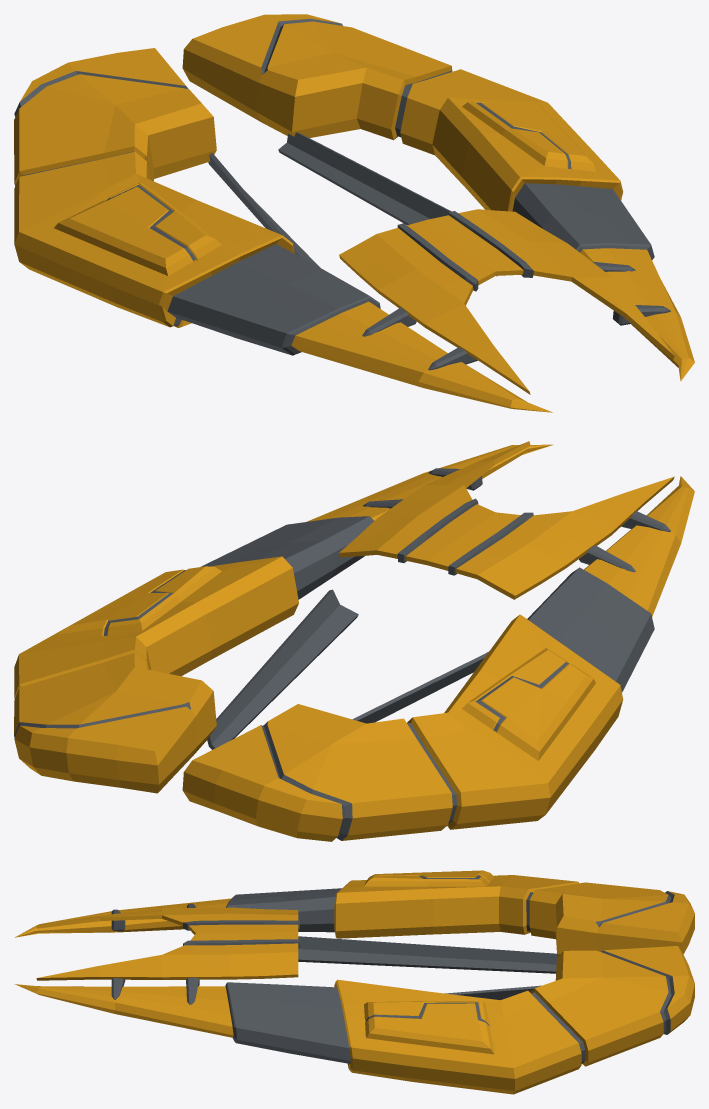
The model's file is Fighter_02_Outer_Frame_Yellow.fbx.
3 views of the same model, one above another, from view 1: azimuth 30°, elevation 25°; view 2: azimuth 150°, elevation 25°; view 3: azimuth 270°, elevation 25° (orthographic). The views are drawn at different scales.
Parts seen in each view (by area): view 1: Fighter_02_Outer_Frame_Yellow; view 2: Fighter_02_Outer_Frame_Yellow; view 3: Fighter_02_Outer_Frame_Yellow.
Part boxes in pixels (x1,y1,x2,y2): Fighter_02_Outer_Frame_Yellow: (14, 14, 694, 412); Fighter_02_Outer_Frame_Yellow: (14, 441, 694, 841); Fighter_02_Outer_Frame_Yellow: (14, 870, 694, 1094).
Size of the model in its own units: 783 by 132 by 1151.
Materials: 1 (1 with a texture image).
